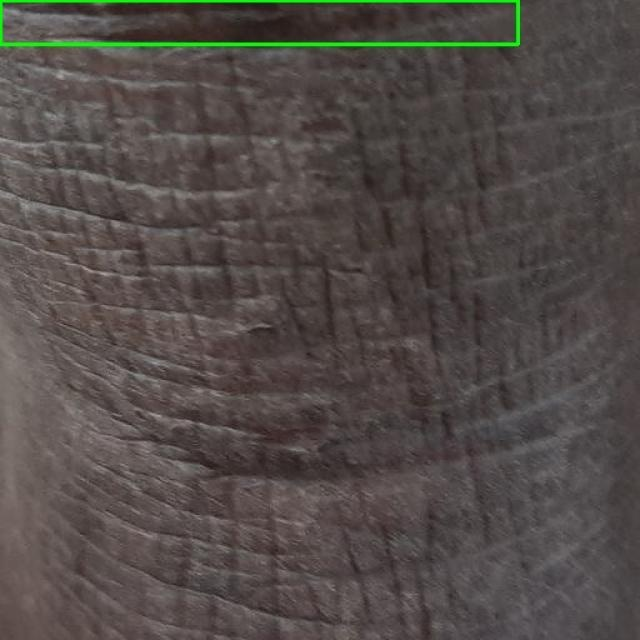Eczema: (0, 0, 518, 44)
